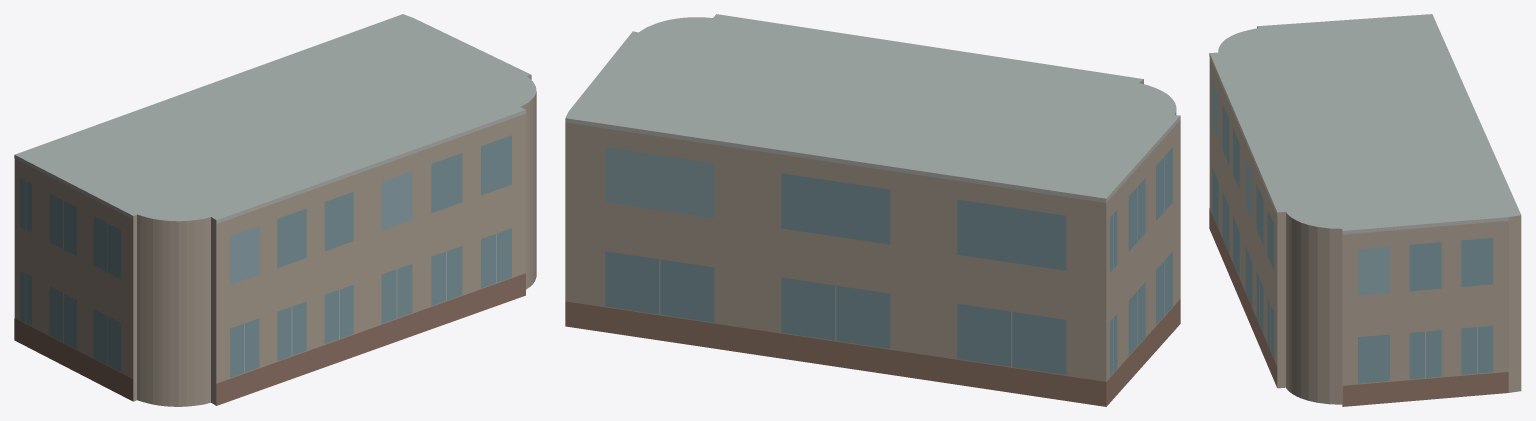
Rendered from survey-upis-32857966.glb.
3 views of the same model, side by side, from view 1: azimuth 30°, elevation 25°; view 2: azimuth 150°, elevation 25°; view 3: azimuth 270°, elevation 25° (orthographic). The views are drawn at different scales.
Visible parts, largest first — view 1: survey-upis-32857966.tmp; view 2: survey-upis-32857966.tmp; view 3: survey-upis-32857966.tmp.
Boxes of the visible parts, box(x1,y1,x2,y2) form: survey-upis-32857966.tmp: box(14, 14, 536, 406); survey-upis-32857966.tmp: box(565, 14, 1180, 406); survey-upis-32857966.tmp: box(1209, 14, 1521, 406).
Size of the model in its own units: 31.06 by 11.73 by 18.87.
